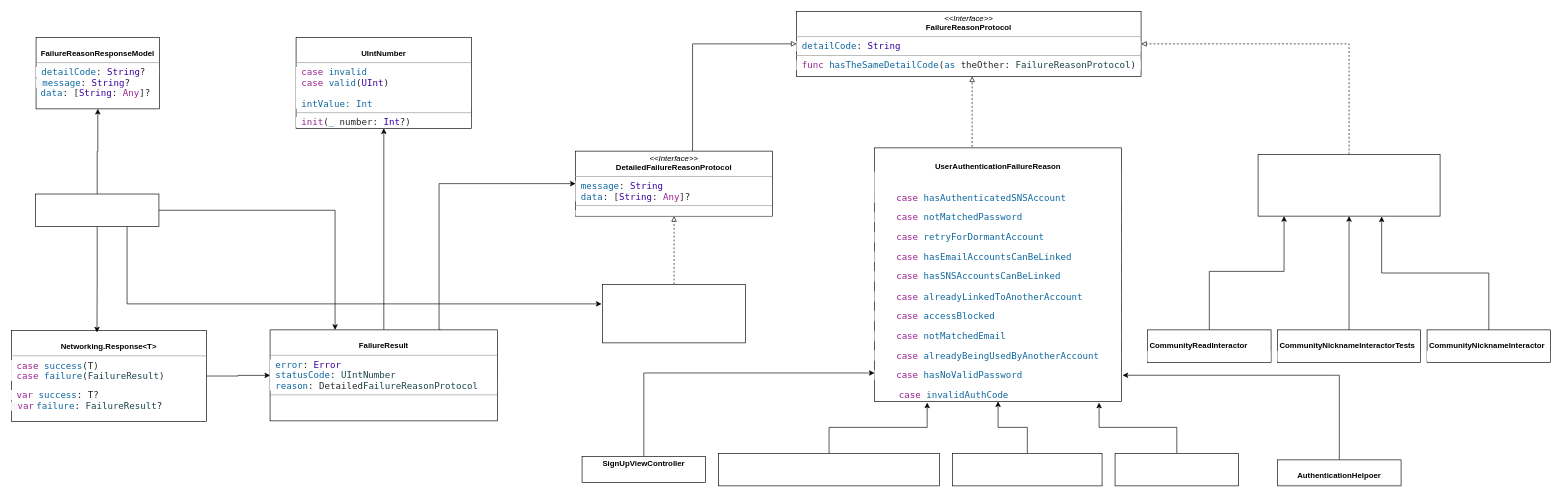
Some shapes in this 1562 by 497 pixel diagram are drawn without their labels. Here are the shapes that lost their labels. From the top down, the centre of each, then its label:
At point 1348,185: "CommunityFailureReason case duplicatedReport case duplicatedNickname".
At point 97,210: "Networking".
At point 674,313: "FailureReason static let empty : Self".
At point 829,469: "DevUserStatusChangeTerminateAccountLinkWithKakao".
At point 1027,469: "LinkWithSocialProviderManagerTests".
At point 1176,469: "LinkWithSocialProviderManager".
